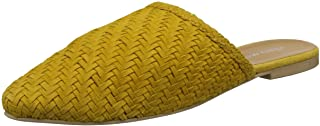shoes: (1, 1, 320, 124)
